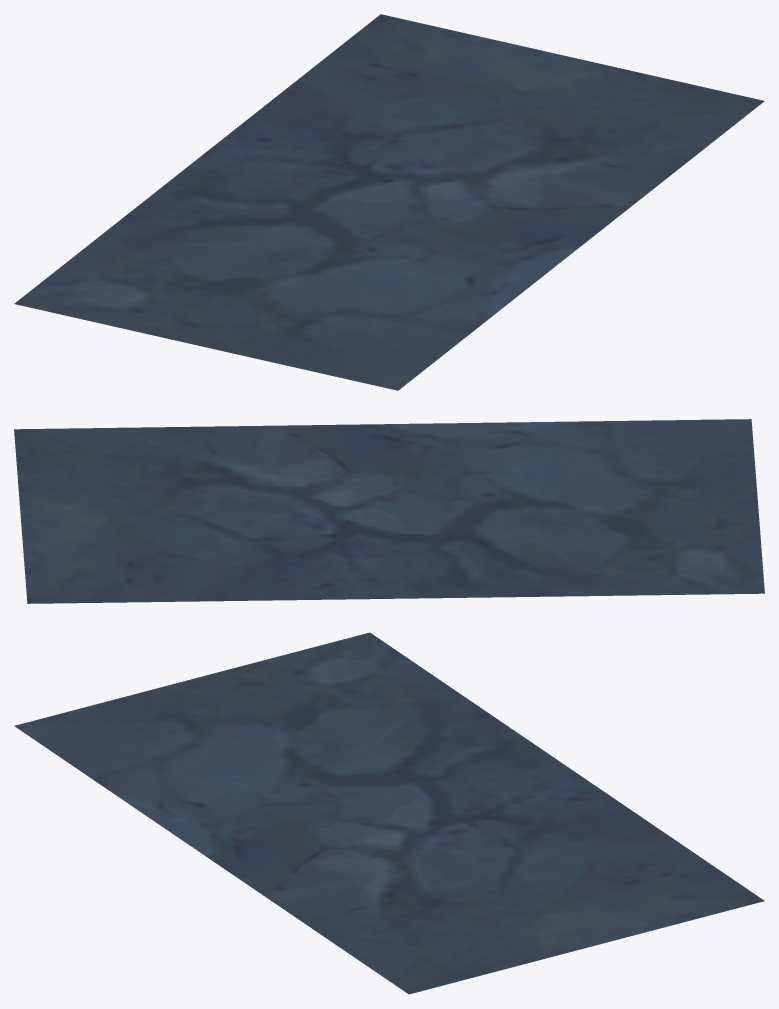
File: Area_04_13.fbx
3 views of the same model, one above another, from view 1: azimuth 30°, elevation 25°; view 2: azimuth 150°, elevation 25°; view 3: azimuth 270°, elevation 25° (orthographic). The views are drawn at different scales.
Parts seen in each view (by area): view 1: Area_04_13; view 2: Area_04_13; view 3: Area_04_13.
Part boxes in pixels (<box>): Area_04_13: <box>14,14,764,390</box>; Area_04_13: <box>14,419,764,603</box>; Area_04_13: <box>14,632,764,994</box>.
Size of the model in its own units: 9897 by 0.003 by 8675.
